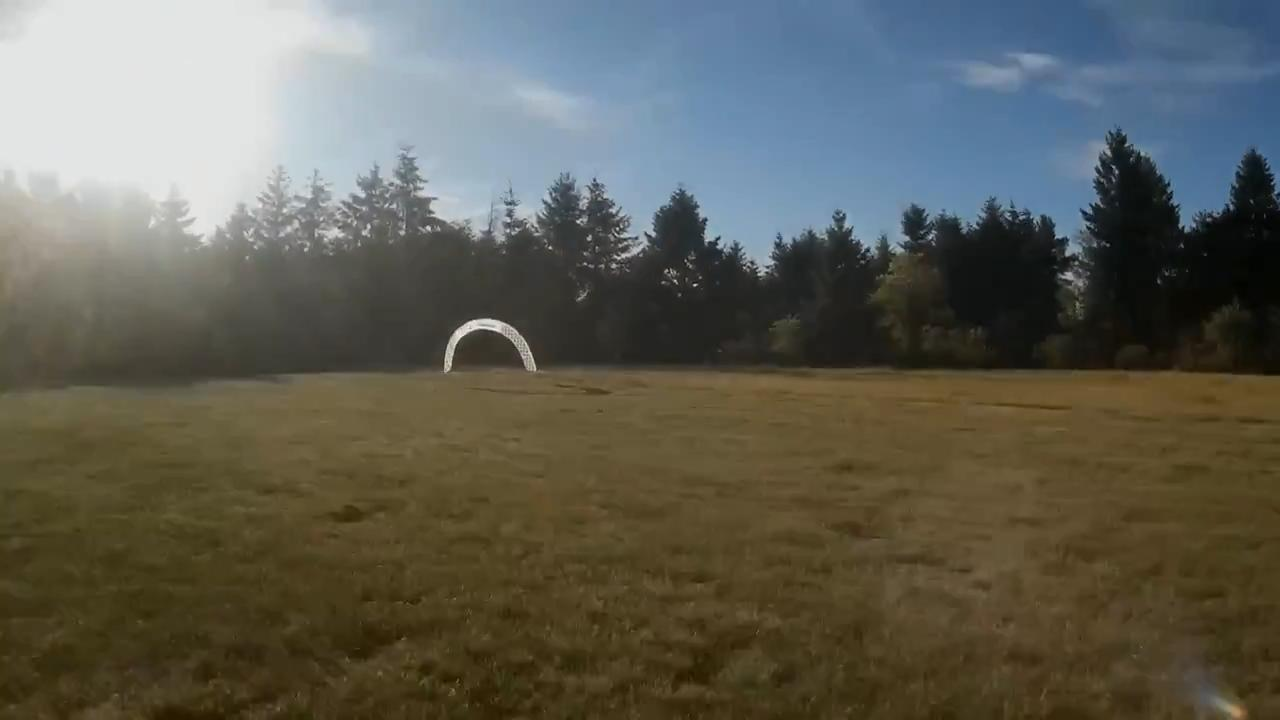gate: (441, 317, 536, 375)
